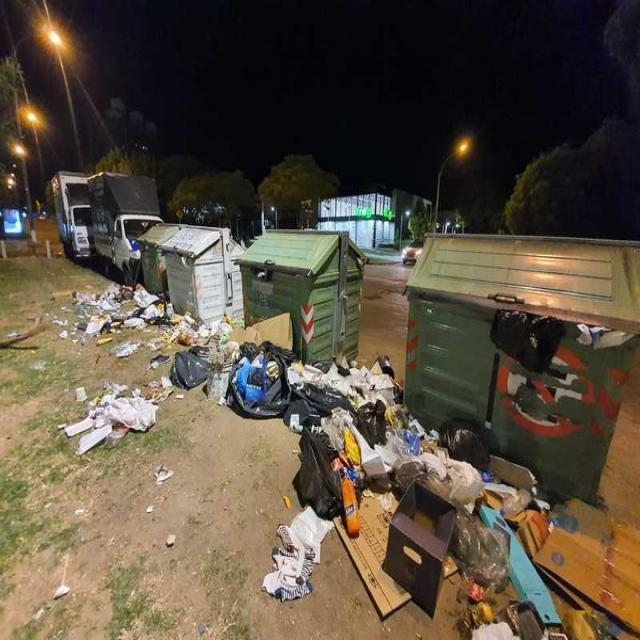garbage: (303, 470, 546, 580), (174, 317, 305, 416), (308, 368, 410, 468), (466, 583, 640, 639), (488, 314, 630, 378), (554, 488, 640, 584), (64, 381, 172, 454), (66, 280, 174, 330), (417, 408, 498, 472), (98, 332, 178, 370), (268, 530, 310, 601), (153, 462, 180, 484), (56, 317, 69, 342), (278, 488, 292, 511)
